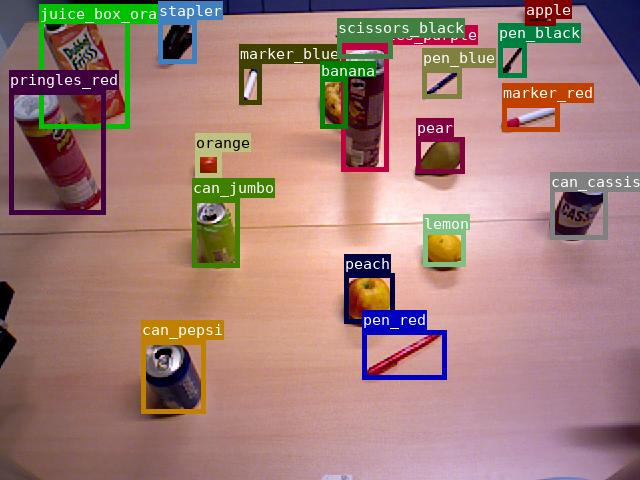apple: (525, 0, 555, 25)
banana: (320, 77, 347, 128)
can_cassis: (550, 172, 607, 239)
can_jumbo: (192, 198, 239, 267)
can_pepsi: (141, 340, 205, 413)
juice_box_orange: (39, 4, 129, 128)
lemon: (423, 230, 465, 266)
marker_blue: (239, 64, 261, 104)
marker_red: (502, 103, 559, 131)
orange: (195, 152, 221, 177)
peach: (344, 273, 394, 323)
pear: (416, 137, 464, 173)
pen_black: (498, 43, 526, 77)
pen_blue: (422, 68, 461, 98)
pen_red: (362, 330, 446, 379)
pringles_purple: (341, 45, 388, 171)
pringles_red: (9, 90, 105, 214)
scissors_black: (337, 38, 392, 58)
stapler: (158, 20, 196, 63)
